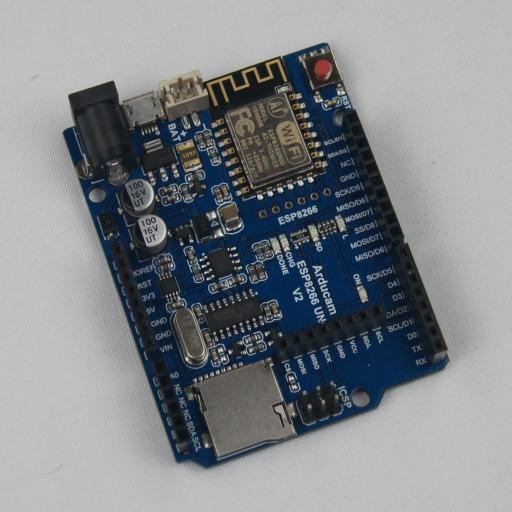Arduino Uno Camera Shield: (62, 43, 450, 469)
